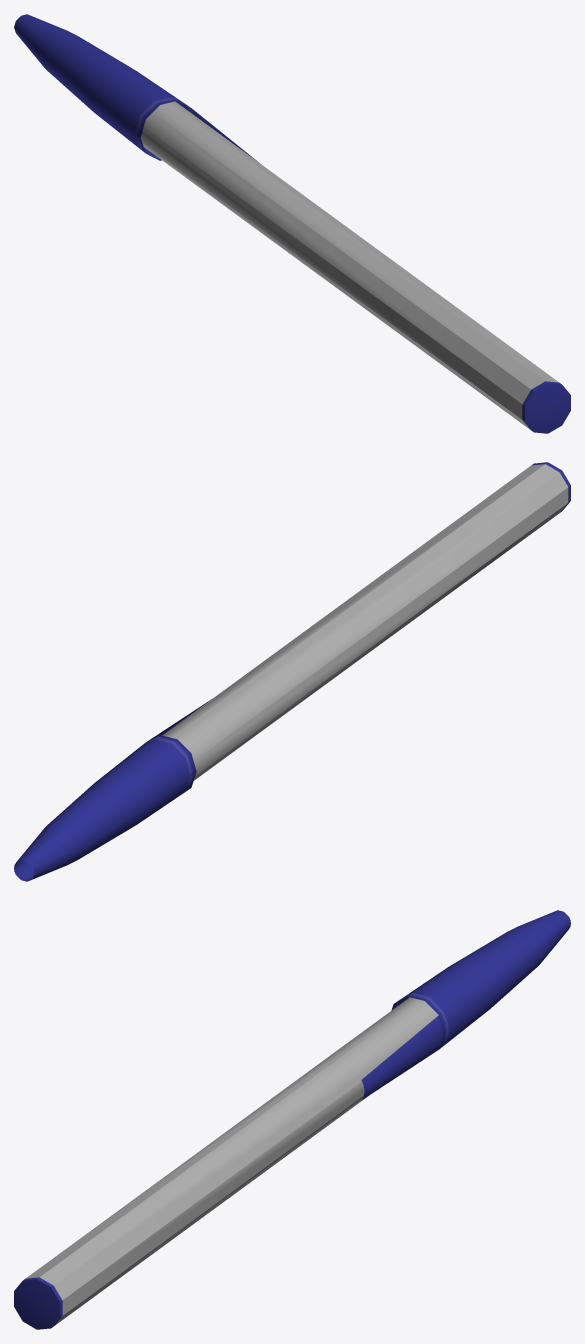
The model's file is pen.fbx.
The picture shows the model from 3 angles, top to bottom: view 1: azimuth 30°, elevation 25°; view 2: azimuth 150°, elevation 25°; view 3: azimuth 330°, elevation 25°; orthographic projection.
Parts seen in each view (by area): view 1: pen, pen_lid; view 2: pen, pen_lid; view 3: pen, pen_lid.
Boxes of the visible parts, x1=… form: pen: x1=140, y1=101, x2=570, y2=433; pen_lid: x1=14, y1=14, x2=258, y2=162; pen: x1=162, y1=462, x2=570, y2=780; pen_lid: x1=14, y1=699, x2=211, y2=881; pen: x1=14, y1=997, x2=438, y2=1329; pen_lid: x1=361, y1=910, x2=570, y2=1100.
Size of the model in its own units: 0.0112 by 0.0106 by 0.1814.
